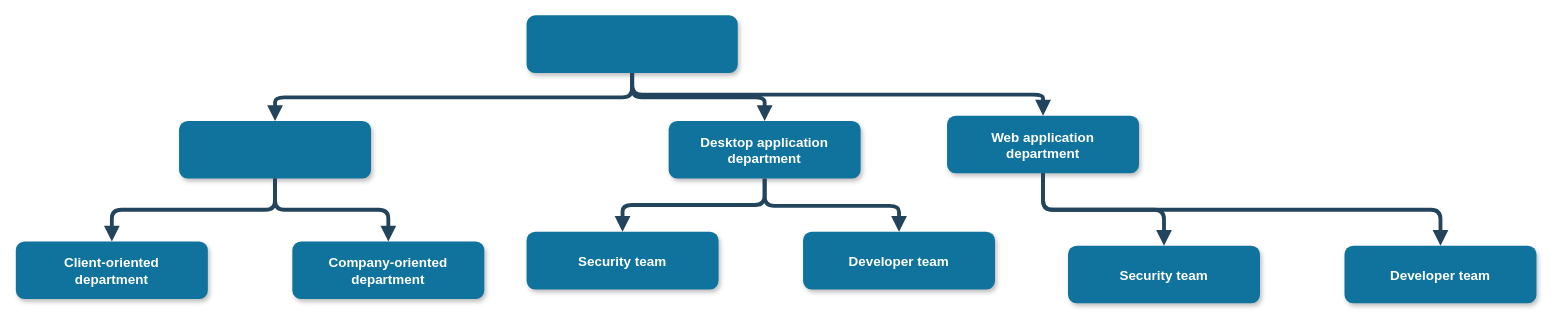
This 1552x319 diagram has some shape labels left out. Here are the shapes that lost their labels. From the top down, the centre of each, then its label:
At point 632,45: "Information technology department".
At point 275,151: "CEO".
